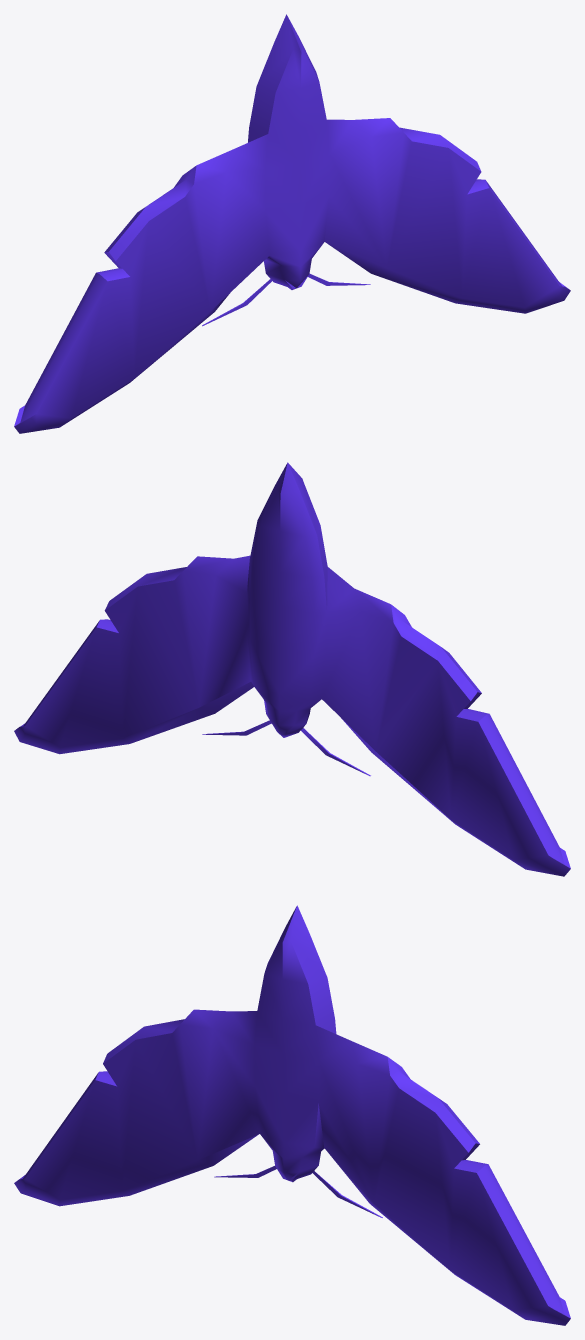
3 views of the same model, one above another, from view 1: azimuth 30°, elevation 25°; view 2: azimuth 150°, elevation 25°; view 3: azimuth 330°, elevation 25° (orthographic).
Parts seen in each view (by area): view 1: Object_13; view 2: Object_13; view 3: Object_13.
Boxes of the visible parts, <box> form: Object_13: <box>14,14,570,433</box>; Object_13: <box>14,462,570,876</box>; Object_13: <box>14,905,570,1325</box>.
Size of the model in its own units: 1 by 0.6069 by 0.0703.
